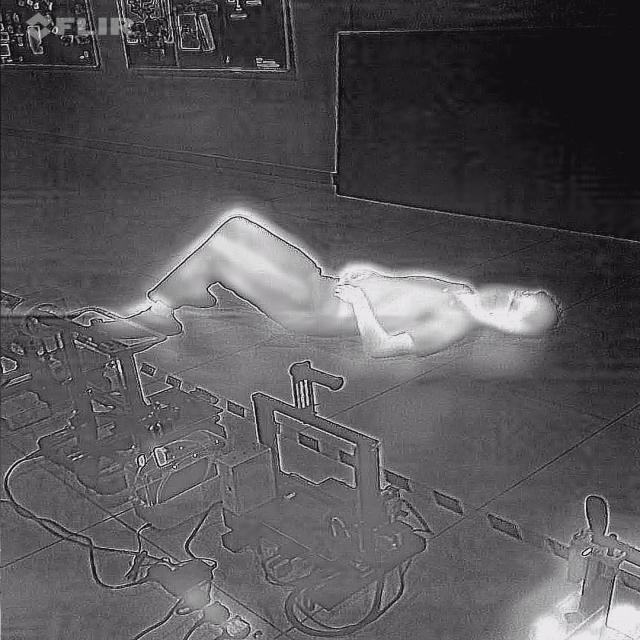Victim: (75, 195, 582, 368)
